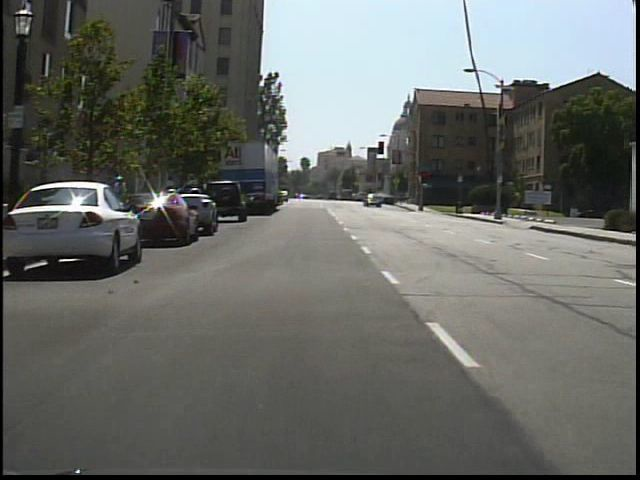person: (81, 168, 105, 225), (111, 172, 134, 223)
